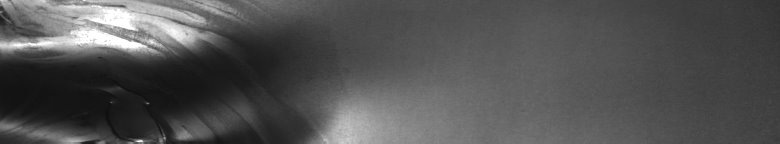ke: (4, 4, 223, 136)
